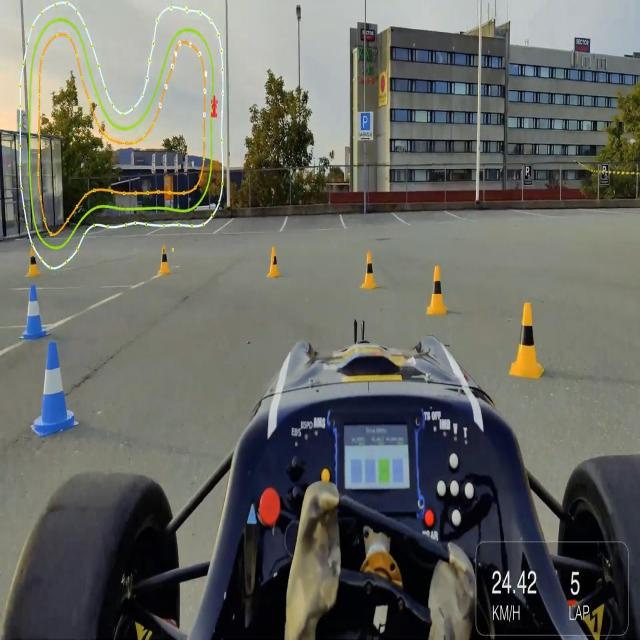blue_cone: (35, 341, 74, 432), (22, 284, 47, 341)
yellow_cone: (509, 301, 543, 378), (427, 265, 447, 315), (363, 251, 378, 290), (27, 246, 41, 277), (160, 244, 172, 277), (268, 245, 280, 278)
